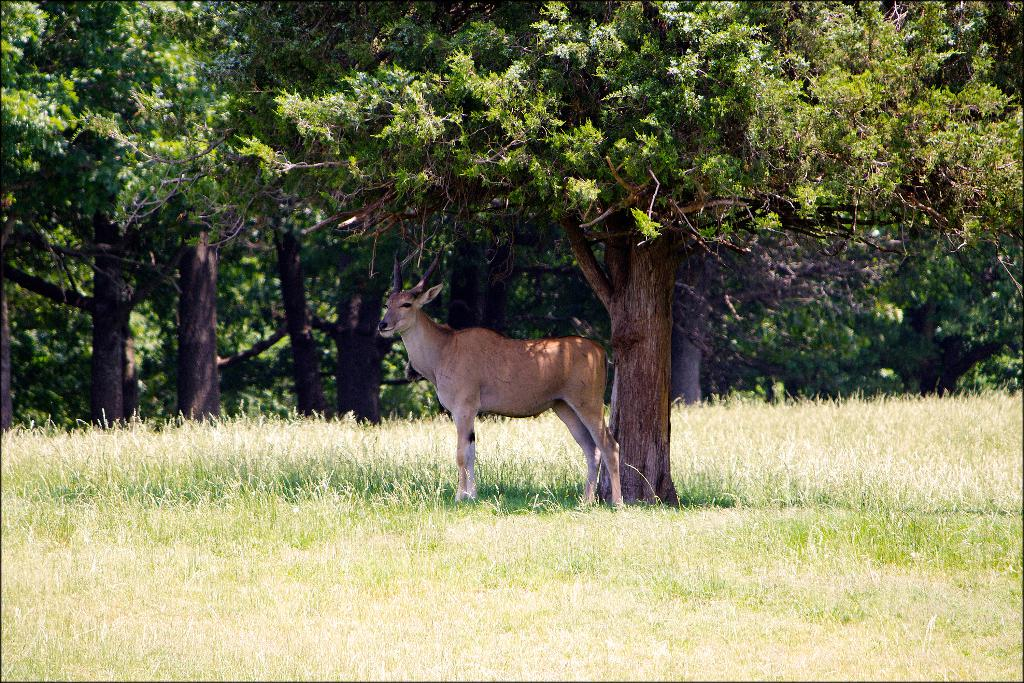Tree: (37, 9, 1016, 508)
